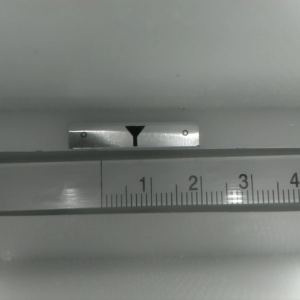1: (138, 176, 145, 192)
2: (187, 175, 197, 190)
3: (238, 174, 248, 189)
4: (289, 172, 299, 187)
finger: (123, 125, 144, 146)
